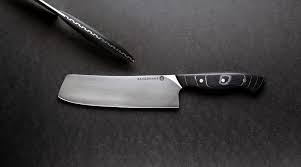knife: (49, 61, 273, 113)
